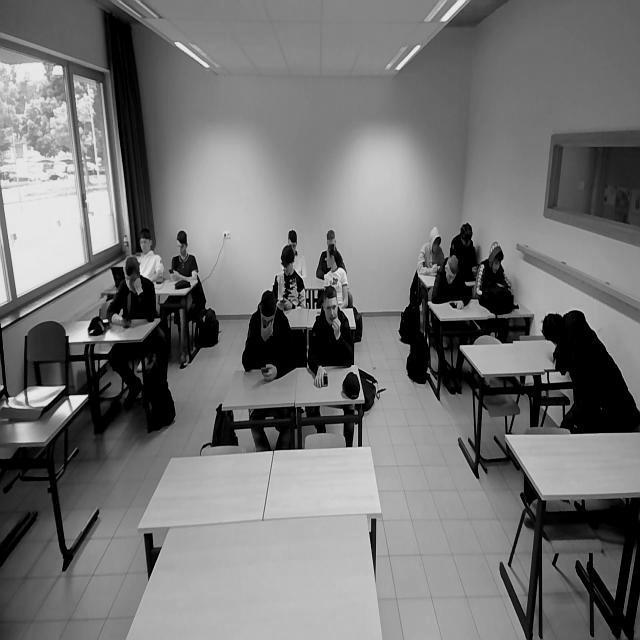Looking away: (140, 230, 151, 254)
Looking forward: (321, 288, 338, 324)
Phone use: (240, 289, 293, 378), (106, 255, 156, 328), (474, 240, 512, 300), (271, 244, 303, 309), (431, 257, 469, 306), (168, 226, 198, 282), (448, 222, 478, 276), (416, 228, 444, 276)
Turning around: (541, 314, 640, 444), (321, 245, 348, 306)
